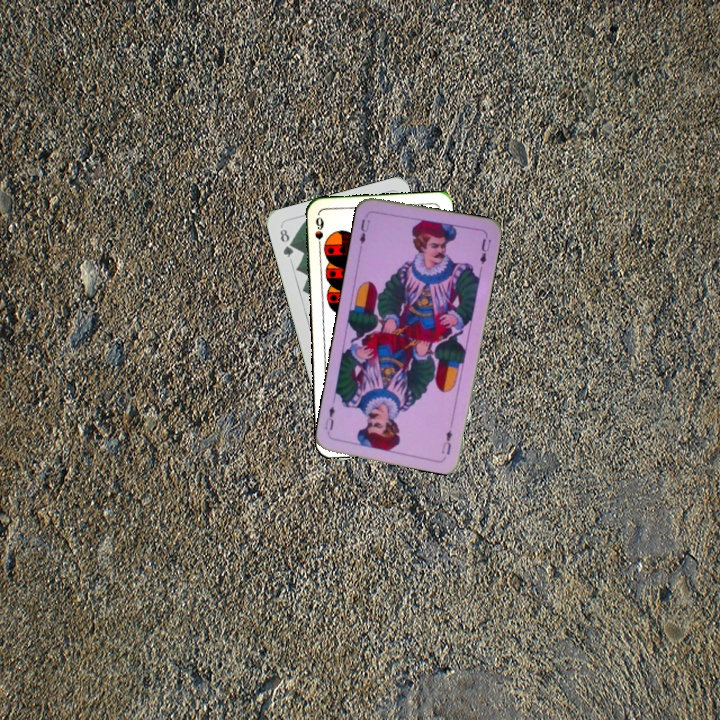EU: (355, 215, 372, 251), (438, 426, 455, 457)
G8: (276, 223, 296, 260)
S9: (311, 213, 326, 253)
